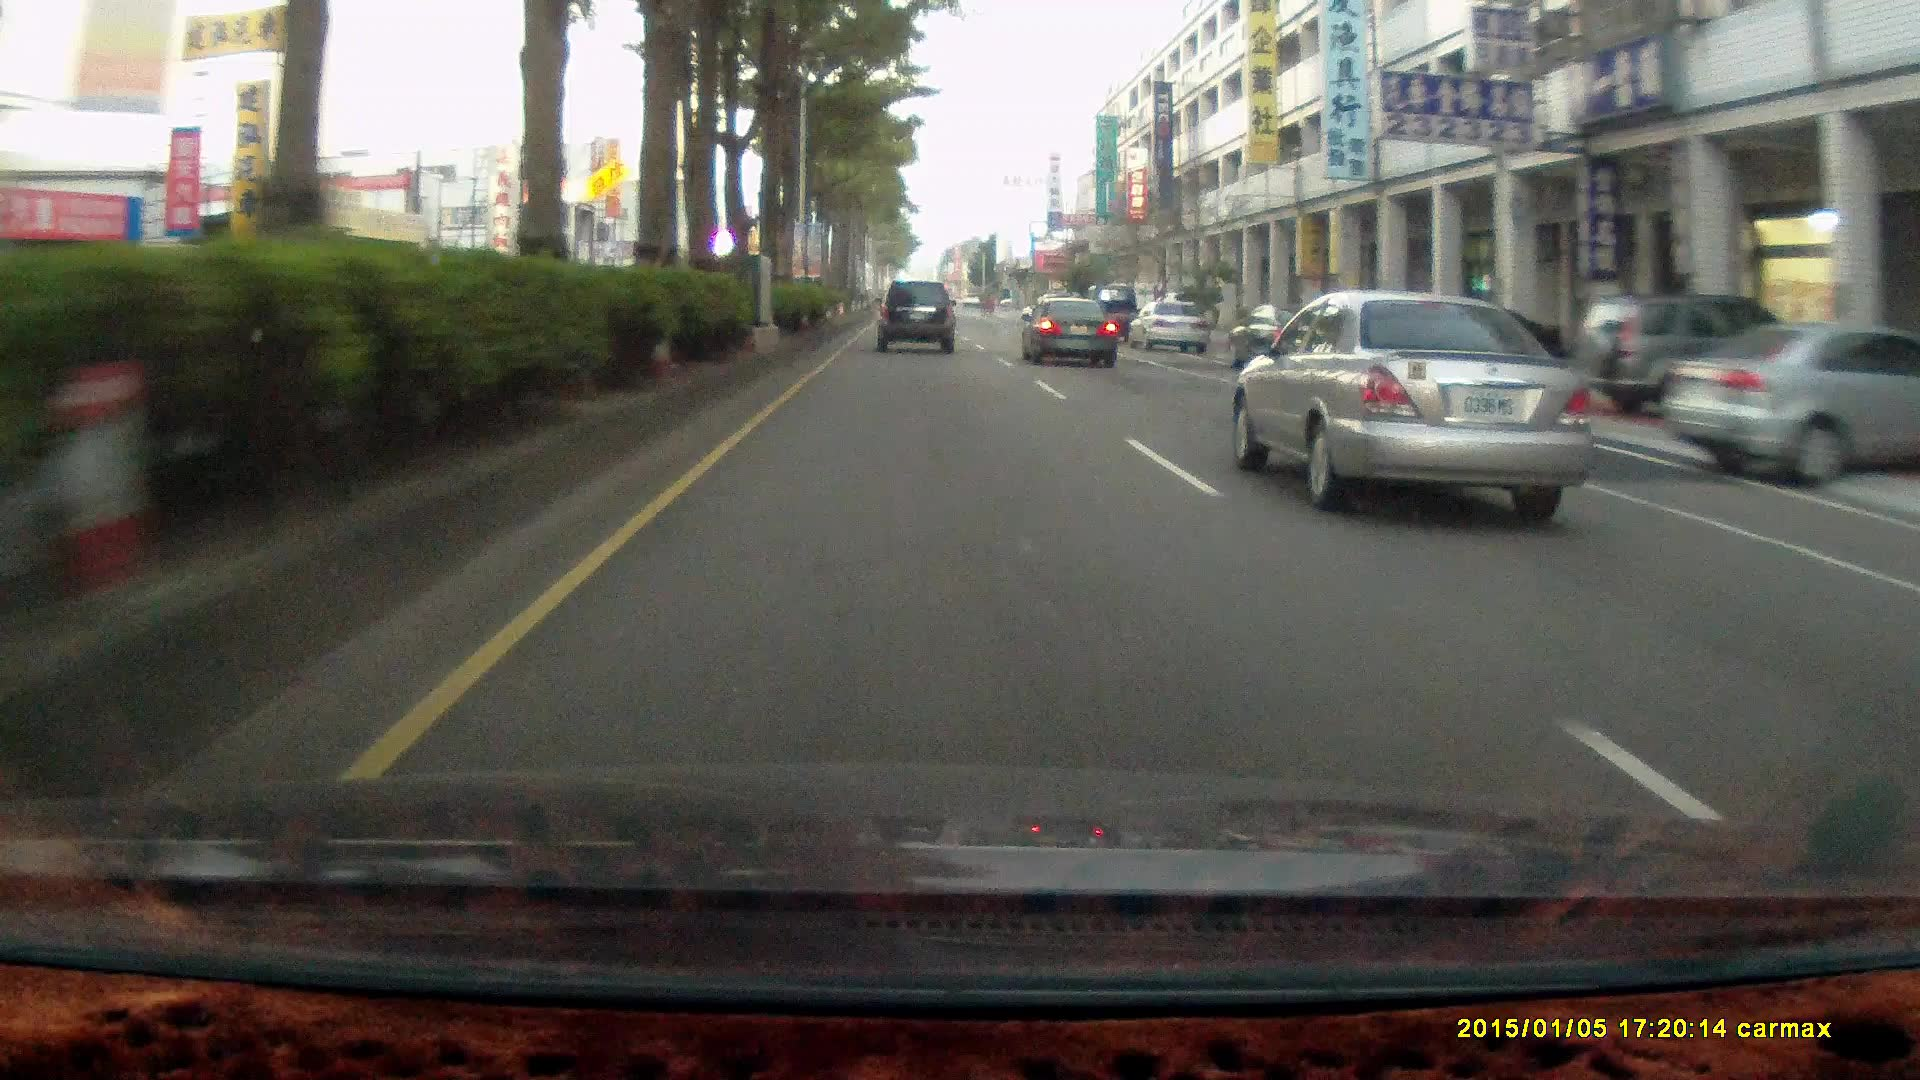vehicle: (1226, 286, 1607, 516), (1662, 324, 1920, 491), (1663, 324, 1920, 489), (1575, 295, 1804, 419), (1575, 295, 1801, 421), (1226, 297, 1360, 373), (1022, 297, 1124, 368), (1018, 294, 1116, 368), (876, 281, 959, 356), (873, 278, 956, 349), (1125, 298, 1211, 353), (1135, 301, 1212, 353), (1085, 284, 1146, 342)
